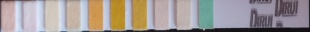color 1: (2, 2, 14, 31)
color 10: (200, 1, 212, 28)
color 2: (24, 3, 35, 30)
color 3: (46, 1, 58, 30)
color 4: (67, 1, 79, 30)
color 5: (89, 1, 102, 30)
color 6: (111, 1, 124, 29)
color 7: (134, 1, 146, 29)
color 8: (156, 1, 168, 28)
color 9: (177, 1, 190, 28)
